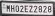character: (14, 4, 19, 12), (42, 5, 47, 13), (19, 5, 24, 12), (28, 5, 33, 12), (47, 6, 52, 13), (6, 4, 10, 12), (10, 4, 14, 12), (38, 5, 42, 13), (24, 5, 28, 12), (33, 5, 37, 12)
